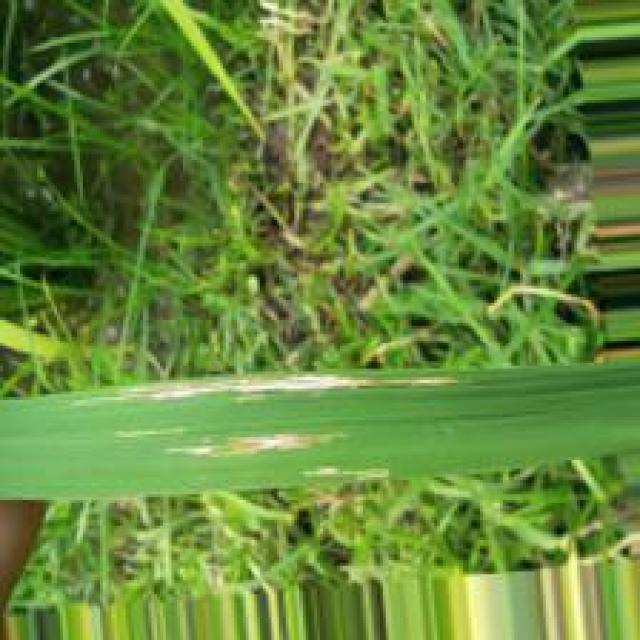Rice_Hispa: (120, 373, 458, 401), (181, 431, 331, 460)
